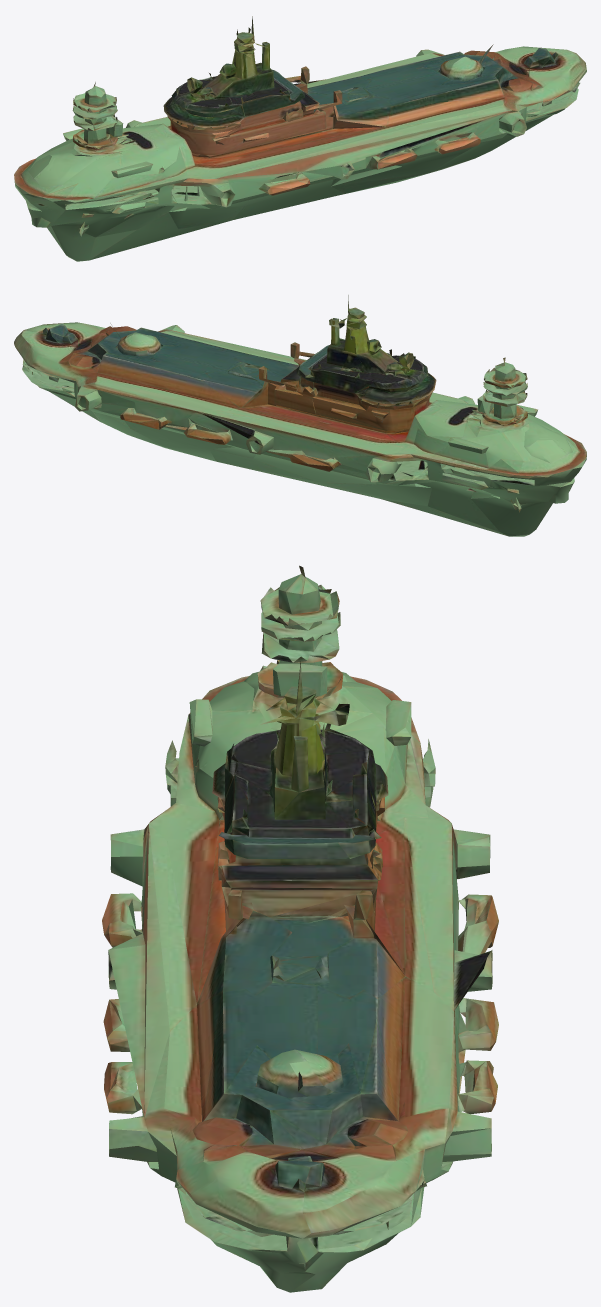
The model's file is nation-l-carrier.glb.
The picture shows the model from 3 angles, top to bottom: view 1: azimuth 30°, elevation 25°; view 2: azimuth 150°, elevation 25°; view 3: azimuth 270°, elevation 25°; orthographic projection. The views are drawn at different scales.
Size of the model in its own units: 1.9 by 0.6593 by 0.5812.
Materials: 1 (1 with a texture image).
